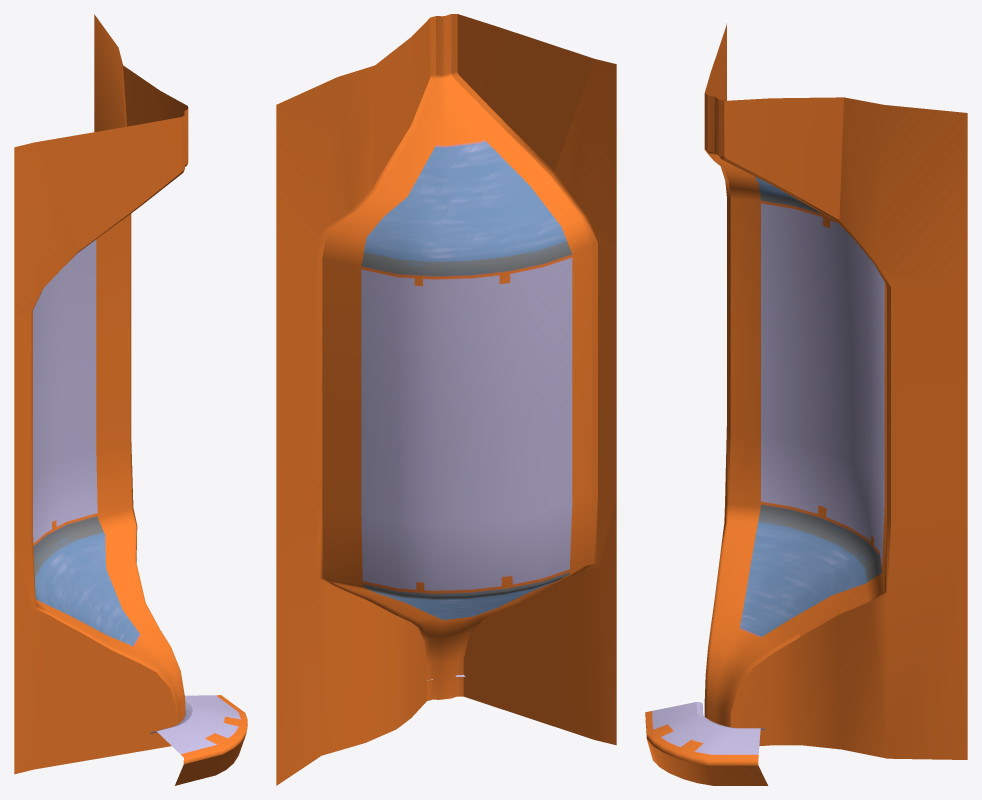
File: wall_corner_L.fbx
3 renders of one model, left to right at view 1: azimuth 30°, elevation 25°; view 2: azimuth 150°, elevation 25°; view 3: azimuth 270°, elevation 25°, orthographic. The views are drawn at different scales.
Visible parts, largest first — view 1: wall_corner_L; view 2: wall_corner_L; view 3: wall_corner_L.
Part boxes in pixels (x1=…): wall_corner_L: x1=14, y1=14, x2=247, y2=785; wall_corner_L: x1=276, y1=14, x2=616, y2=785; wall_corner_L: x1=645, y1=23, x2=967, y2=785.
Size of the model in its own units: 165 by 456 by 201.
